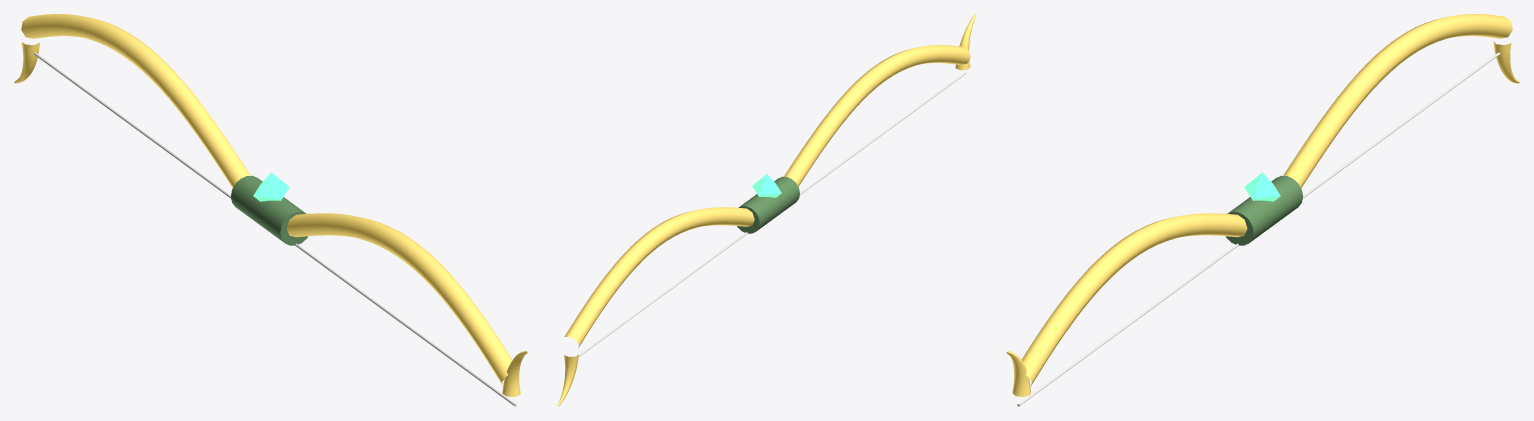
Rendered from arco_elfa.glb.
The picture shows the model from 3 angles, left to right: view 1: azimuth 30°, elevation 25°; view 2: azimuth 150°, elevation 25°; view 3: azimuth 330°, elevation 25°; orthographic projection. The views are drawn at different scales.
Visible parts, largest first — view 1: Arco_Elfa; view 2: Arco_Elfa; view 3: Arco_Elfa.
Boxes of the visible parts, left/top/right/bottom form: Arco_Elfa: left=14, top=14, right=527, bottom=406; Arco_Elfa: left=557, top=14, right=976, bottom=406; Arco_Elfa: left=1006, top=14, right=1519, bottom=406.
Size of the model in its own units: 0.06 by 0.204 by 1.45.
